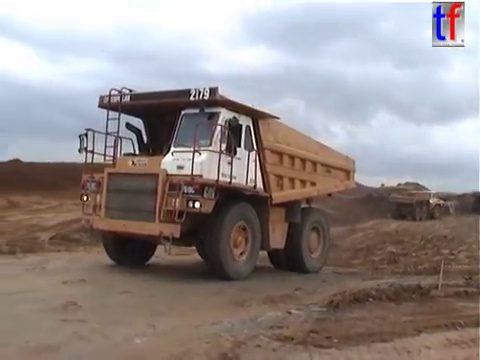truck: (75, 84, 359, 282), (387, 185, 445, 222)
